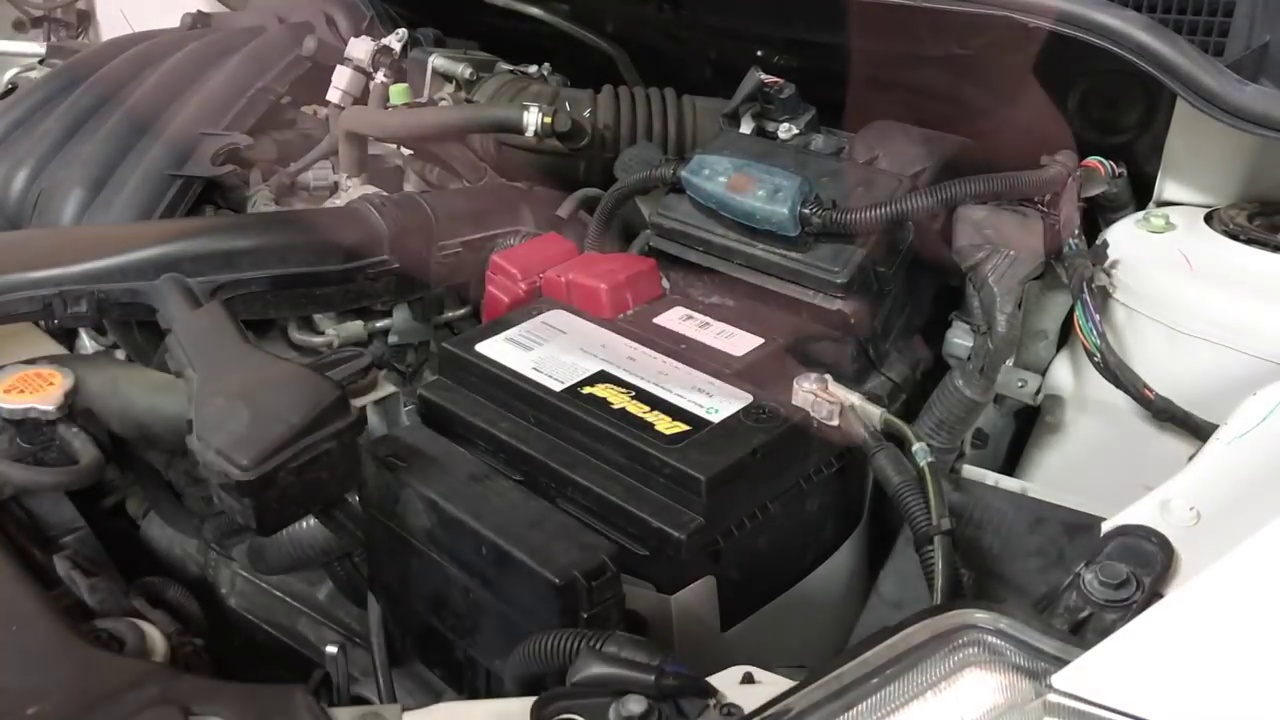battery: (439, 267, 875, 498)
neg_connected: (783, 335, 914, 454)
pos_connected: (477, 231, 658, 326)
